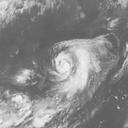cyclone: (48, 39, 111, 100)
